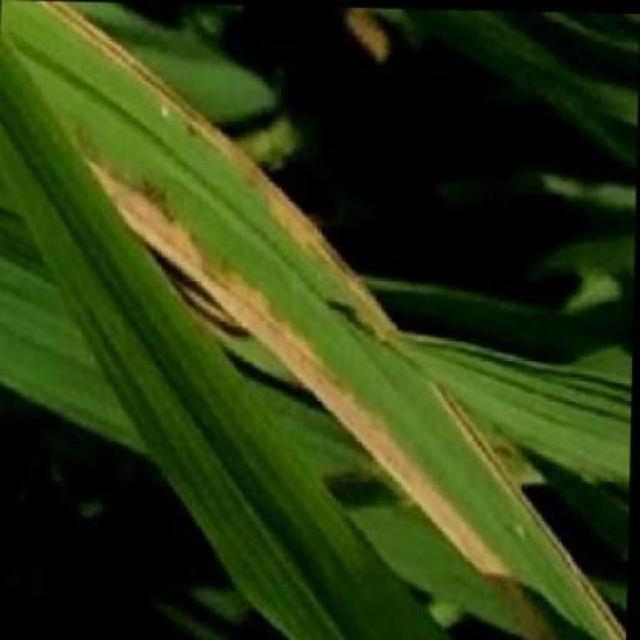Brown_Spot: (115, 164, 358, 325)
